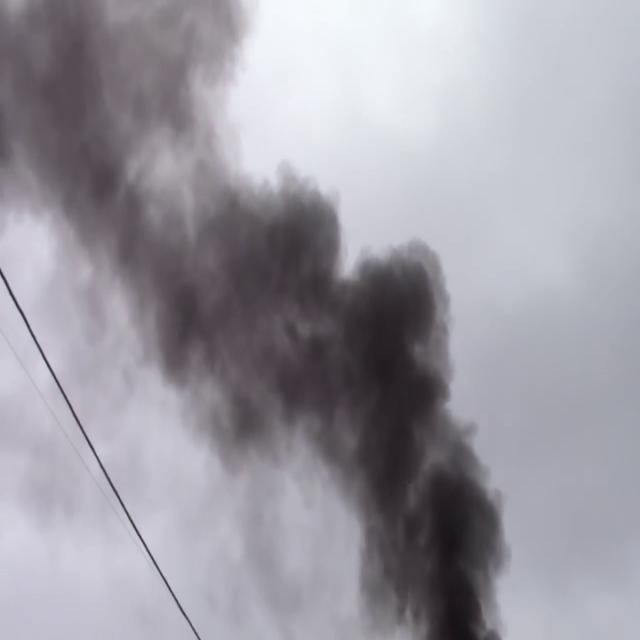Smoke: (1, 0, 516, 640)
